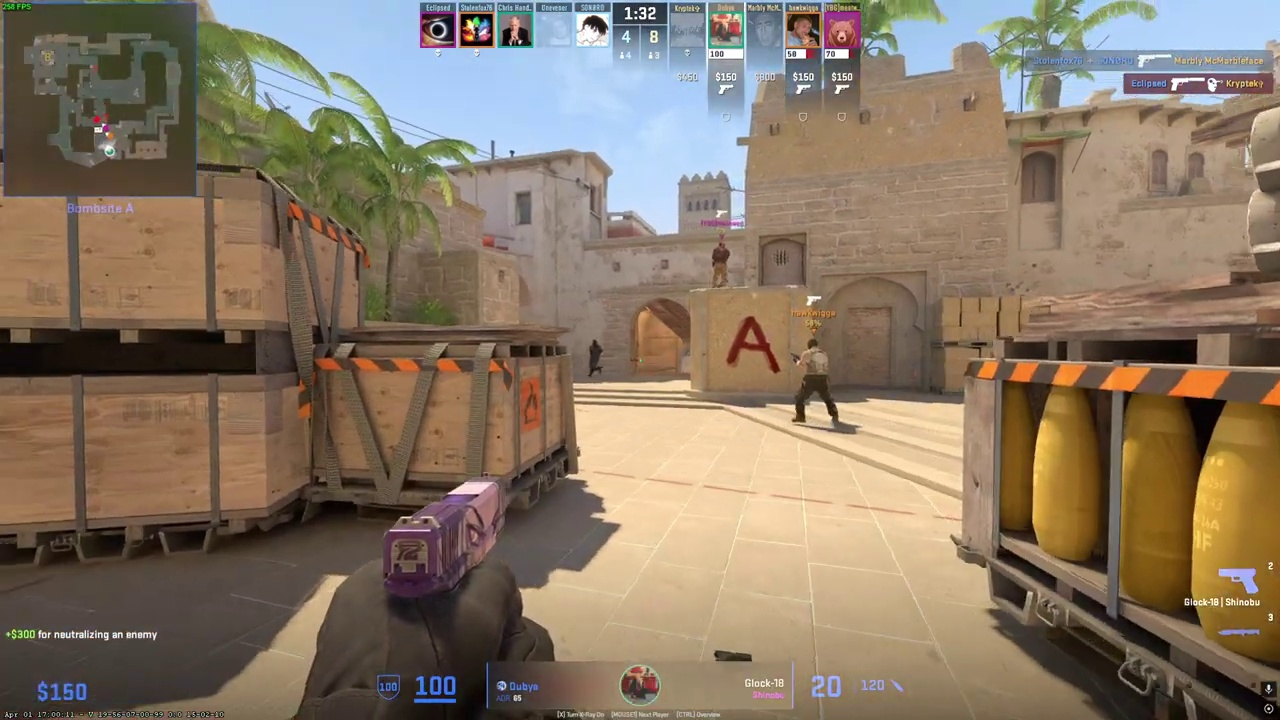CT: (587, 338, 603, 376)
Terrorist: (791, 338, 839, 426), (711, 242, 730, 287)
